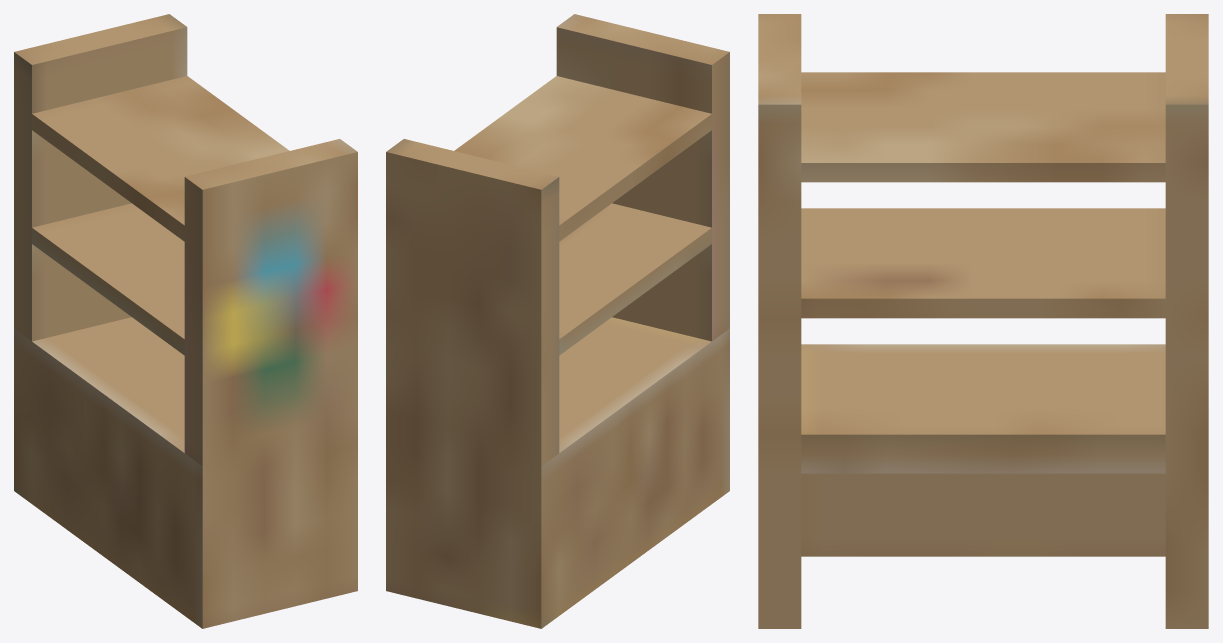
File: BookshelfHShapedBirch_00.fbx
The picture shows the model from 3 angles, left to right: view 1: azimuth 30°, elevation 25°; view 2: azimuth 150°, elevation 25°; view 3: azimuth 270°, elevation 25°; orthographic projection. The views are drawn at different scales.
Visible parts, largest first — view 1: BookshelfHShapedBirch_00; view 2: BookshelfHShapedBirch_00; view 3: BookshelfHShapedBirch_00.
Part boxes in pixels (x1=…): BookshelfHShapedBirch_00: x1=14, y1=14, x2=357, y2=628; BookshelfHShapedBirch_00: x1=386, y1=14, x2=729, y2=628; BookshelfHShapedBirch_00: x1=758, y1=14, x2=1208, y2=628.
Bounding box in the file's own units: 50 × 105 × 135.
1 material, 1 textured.
